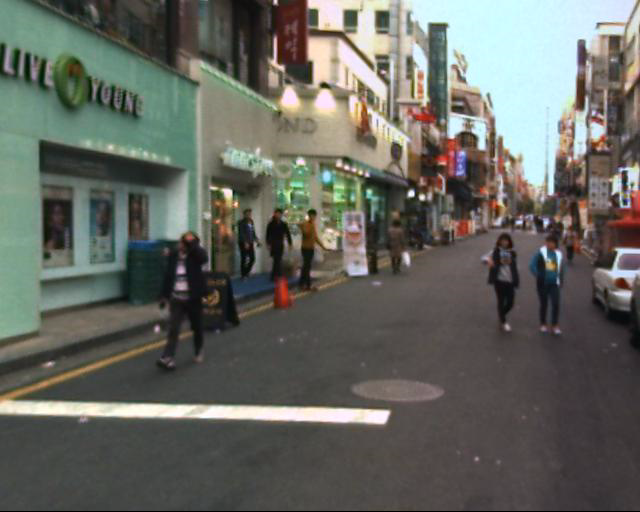person: (157, 215, 215, 383), (482, 219, 528, 340), (534, 219, 574, 342), (296, 197, 326, 301), (384, 205, 421, 285), (264, 197, 292, 293), (234, 197, 262, 293)
